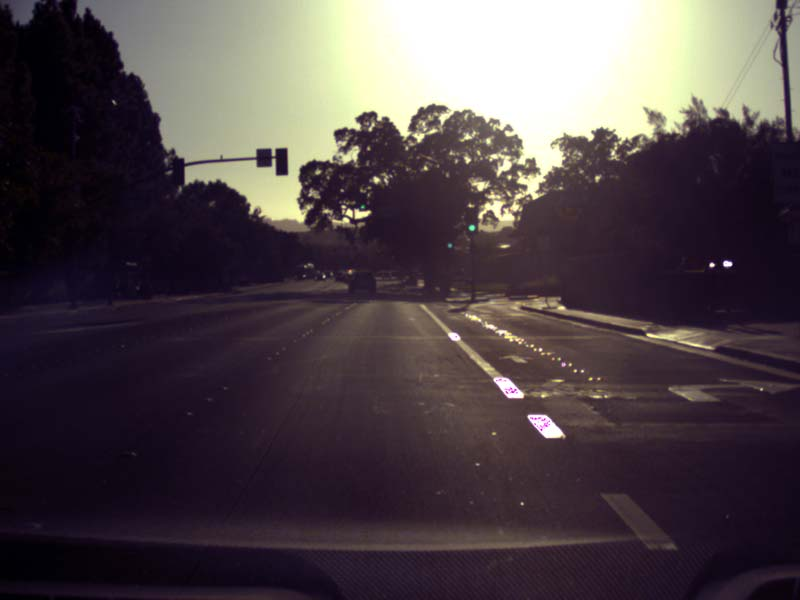Green: (466, 207, 477, 233), (359, 194, 366, 210), (446, 235, 452, 250)
